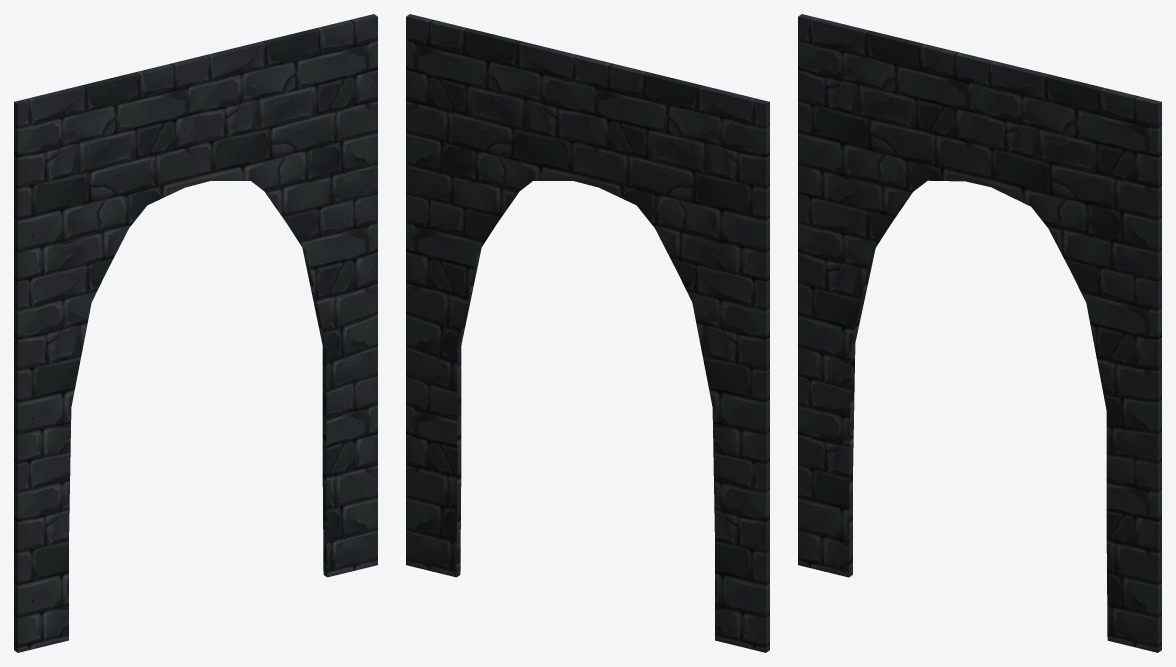
Rendered from doorArchway.fbx.
3 renders of one model, left to right at view 1: azimuth 30°, elevation 25°; view 2: azimuth 150°, elevation 25°; view 3: azimuth 330°, elevation 25°, orthographic.
Parts seen in each view (by area): view 1: polySurface39; view 2: polySurface39; view 3: polySurface39.
Part boxes in pixels (x1=…): polySurface39: x1=14, y1=14, x2=377, y2=652; polySurface39: x1=406, y1=14, x2=769, y2=652; polySurface39: x1=798, y1=14, x2=1161, y2=652.
Size of the model in its own units: 2.07 by 3.01 by 0.0377.
Materials: 1 (1 with a texture image).
